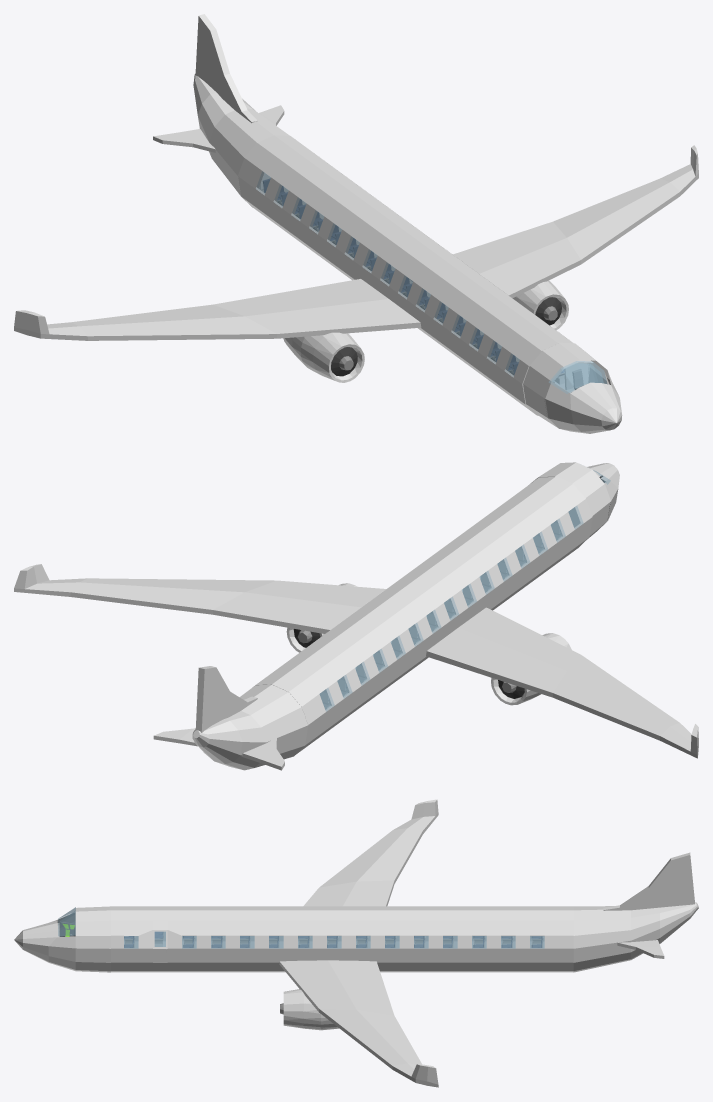
File: FlyByteTestseat2.gltf
3 renders of one model, top to bottom at view 1: azimuth 30°, elevation 25°; view 2: azimuth 150°, elevation 25°; view 3: azimuth 270°, elevation 25°, orthographic. The views are drawn at different scales.
Visible parts, largest first — view 1: Plane Body_2, Plane Back_1, Front of Plane_6; view 2: Plane Body_2, Plane Back_1, Front of Plane_6; view 3: Plane Body_2, Plane Back_1, Front of Plane_6, Plane Door_5.
Boxes of the visible parts, x1,y1,x2,y2 form: Plane Body_2: [14, 135, 698, 415]; Plane Back_1: [153, 14, 289, 207]; Front of Plane_6: [523, 342, 622, 433]; Plane Body_2: [14, 476, 698, 758]; Plane Back_1: [153, 666, 308, 770]; Front of Plane_6: [530, 462, 619, 538]; Plane Body_2: [109, 799, 573, 1087]; Plane Back_1: [573, 852, 698, 972]; Front of Plane_6: [14, 906, 110, 972]; Plane Door_5: [153, 930, 167, 962].
Size of the model in its own units: 37.33 by 8.62 by 39.7.
